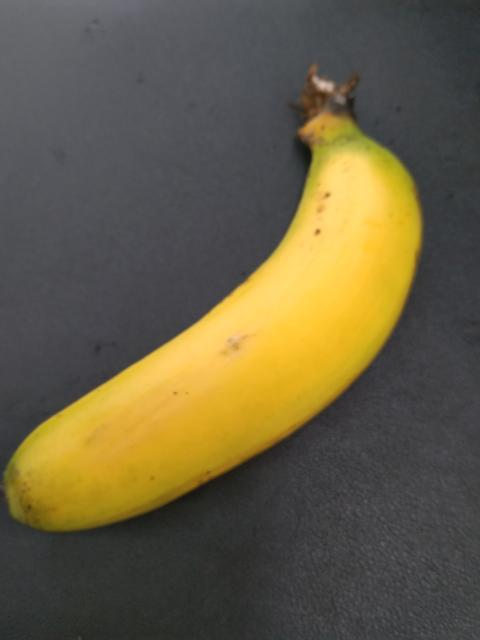freshripe: (0, 126, 425, 543)
